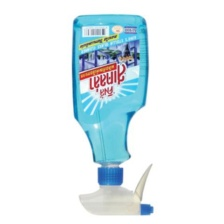cleaning_solution: (66, 11, 159, 219)
